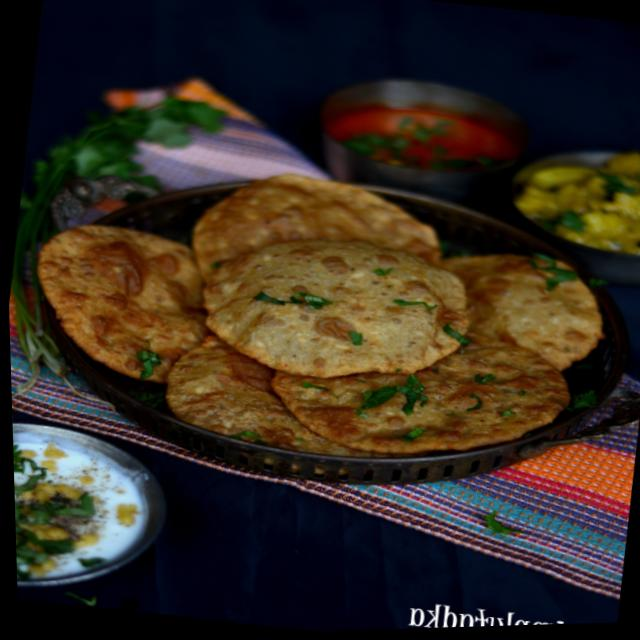POORI: (36, 172, 605, 460)
